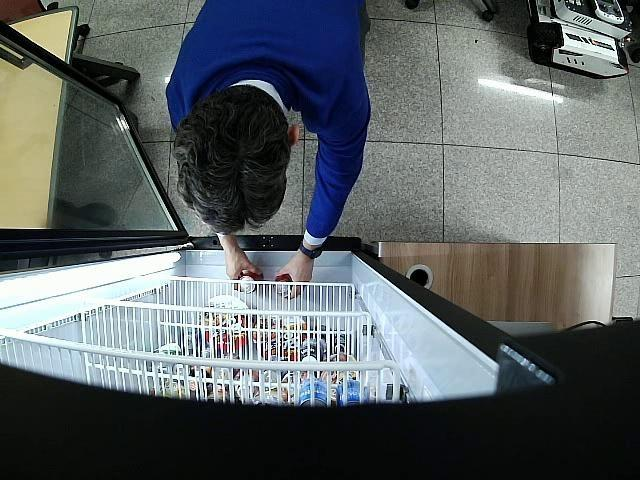11_cocaColaZero: (240, 272, 262, 294), (273, 274, 292, 298)
